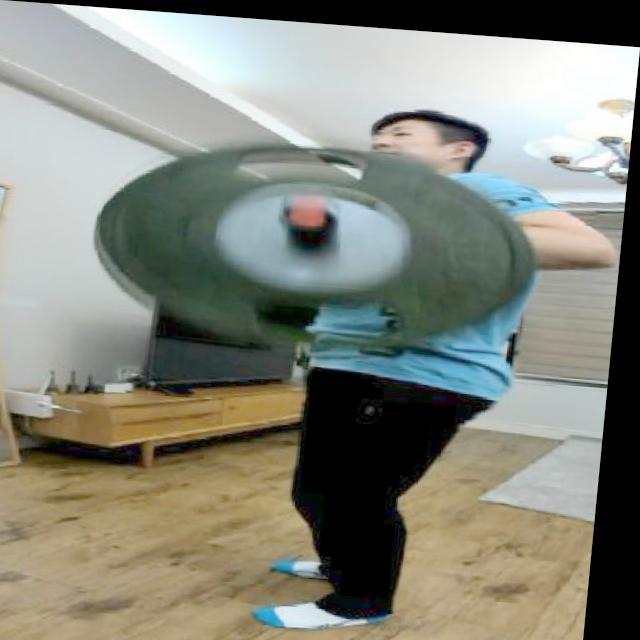barbell: (87, 126, 553, 365)
